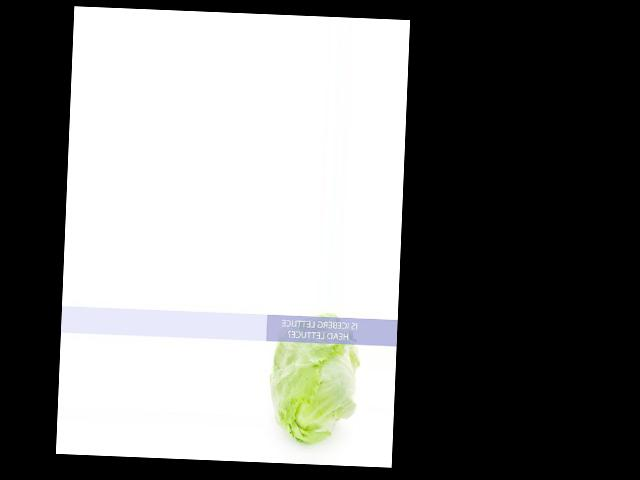lettuce: (239, 309, 363, 407)
